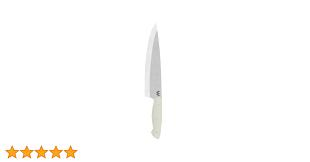Knife: (144, 22, 162, 139)
